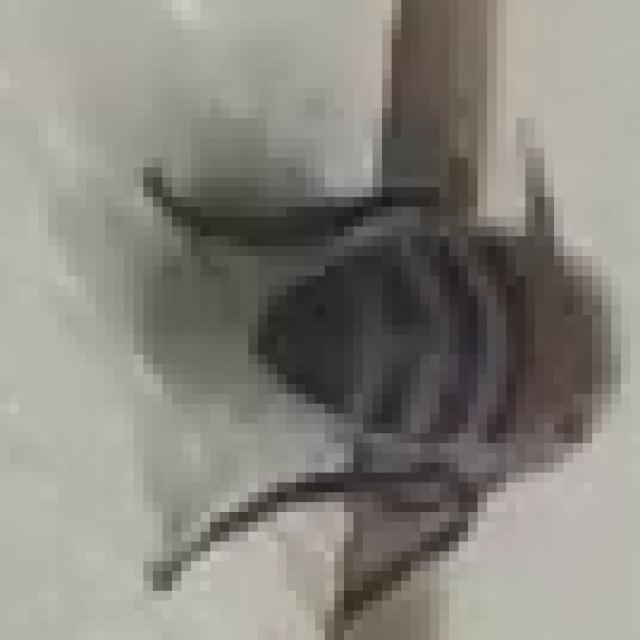honeybee: (128, 140, 609, 500)
